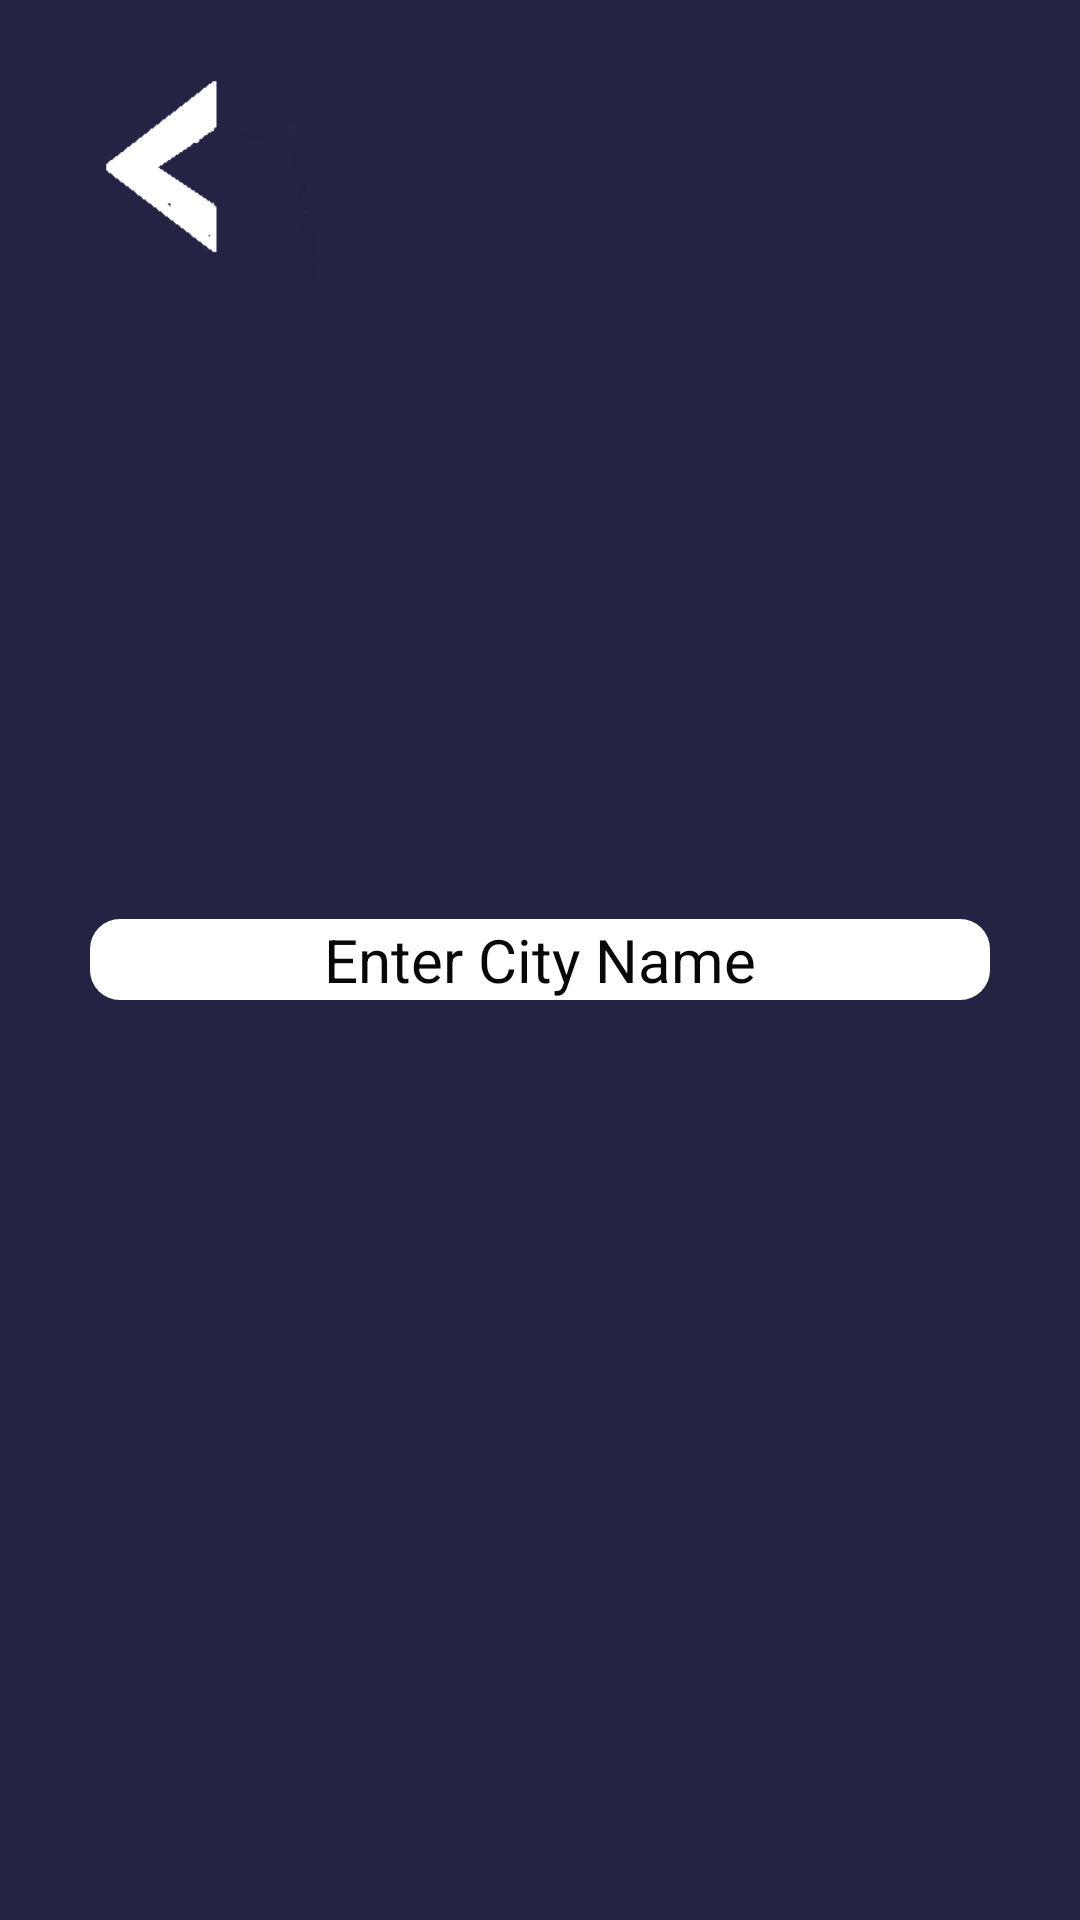

Screen size 1080*1920. Icon name, then its box in pixels as (x1, y1, x2, y2):
left: (106, 81, 217, 252)
